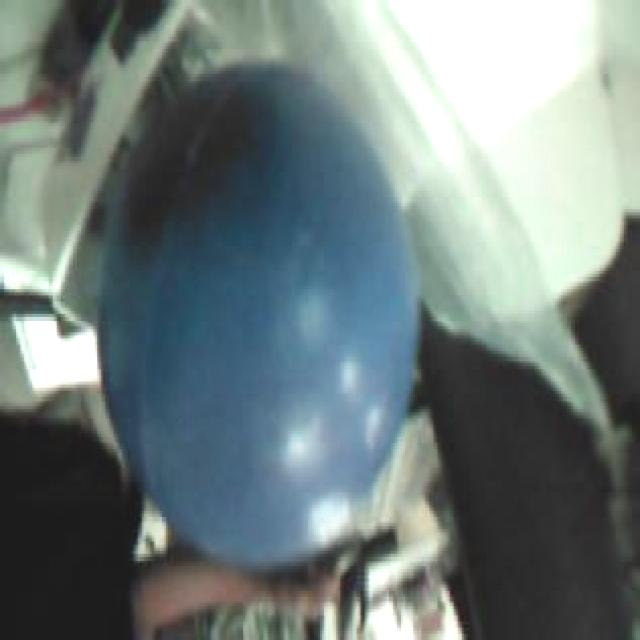BallPurple: (98, 60, 416, 568)
